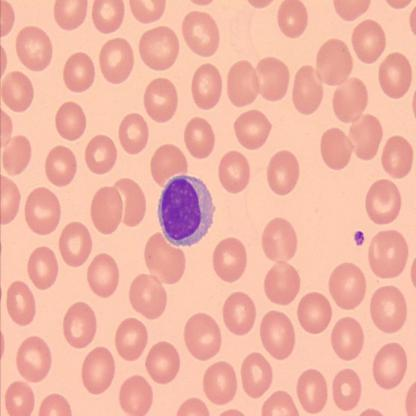Lymphocyte: (156, 174, 216, 249)
